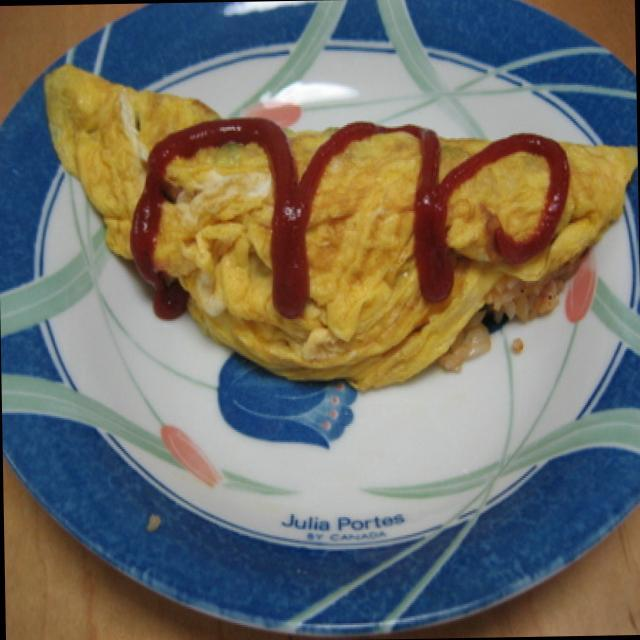Omelet: (40, 43, 640, 394)
